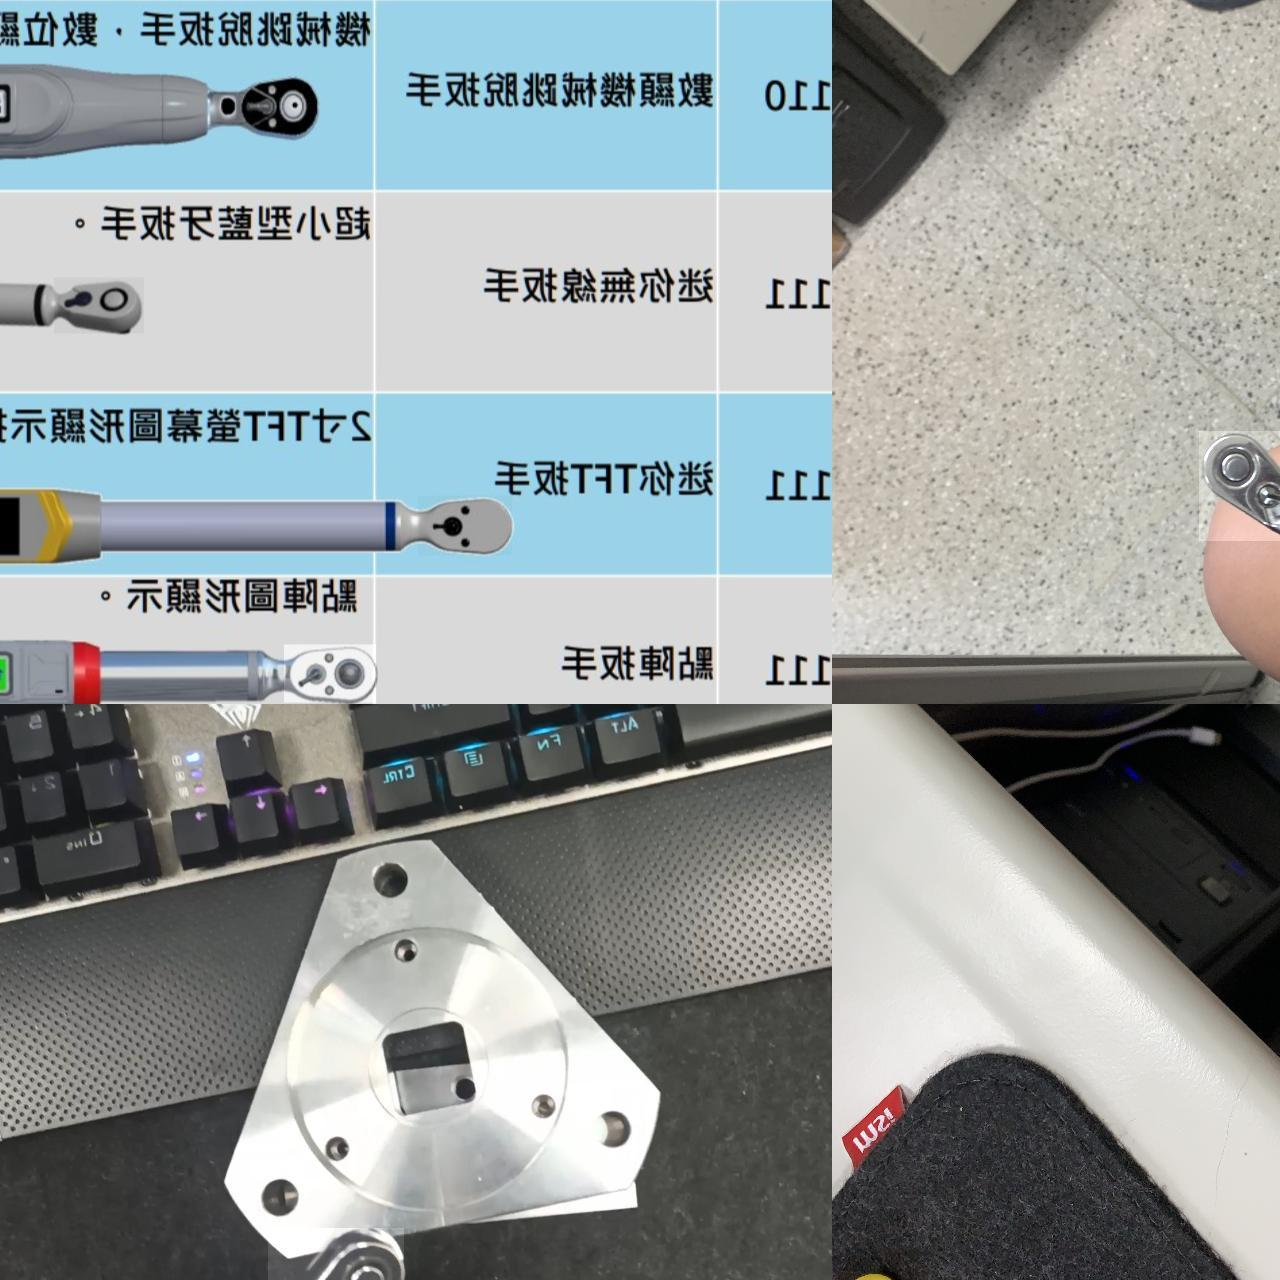Tool: (1199, 431, 1280, 542), (268, 1228, 404, 1280), (418, 495, 512, 554), (284, 644, 376, 702), (54, 277, 144, 333)
hole: (260, 1175, 306, 1223), (374, 857, 411, 905), (322, 1126, 353, 1171), (392, 932, 418, 971), (532, 1095, 563, 1123)
